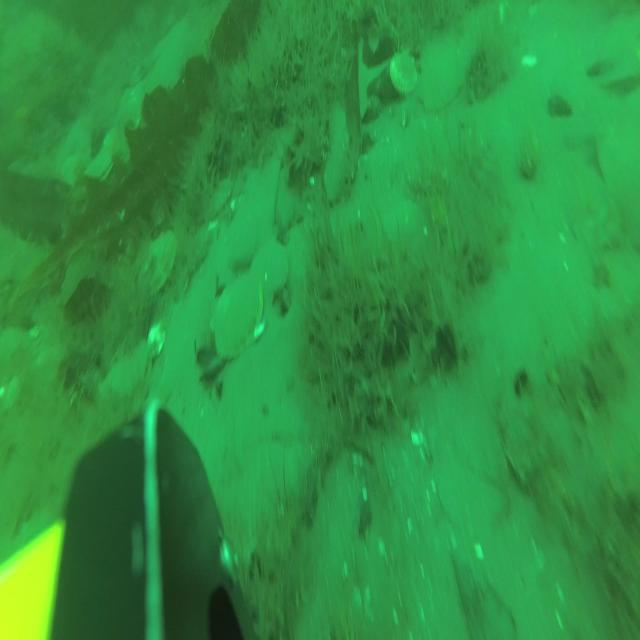scallop: (215, 274, 265, 357), (143, 231, 177, 293), (250, 238, 288, 293), (389, 50, 418, 94), (102, 126, 130, 164), (117, 88, 139, 130), (84, 154, 114, 182)
